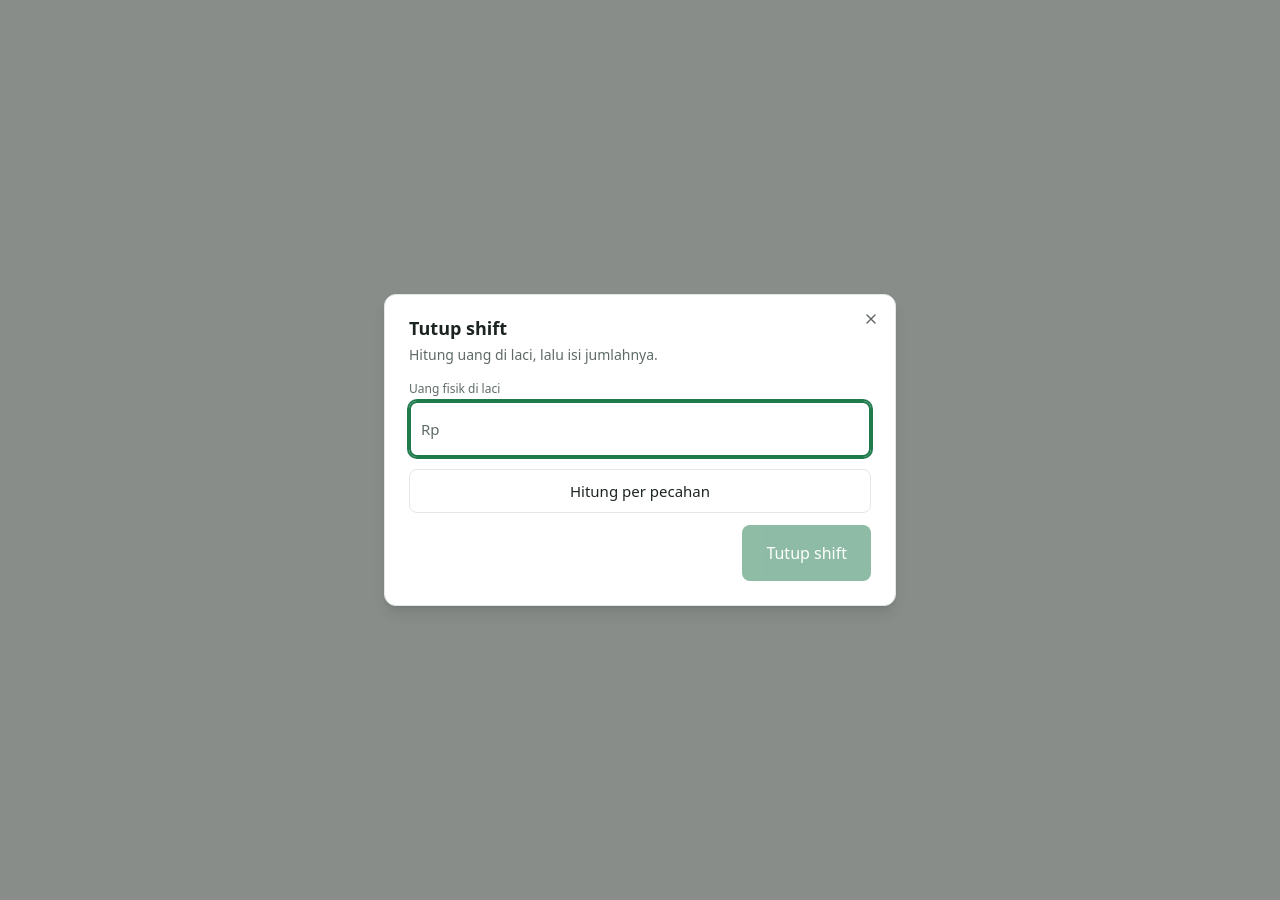
Scenario: kalkulator pecahan mengisi total uang fisik
Step 1. Click the button "Hitung per pecahan" → coordinates (640, 491), box left=409, top=469, right=871, bottom=513
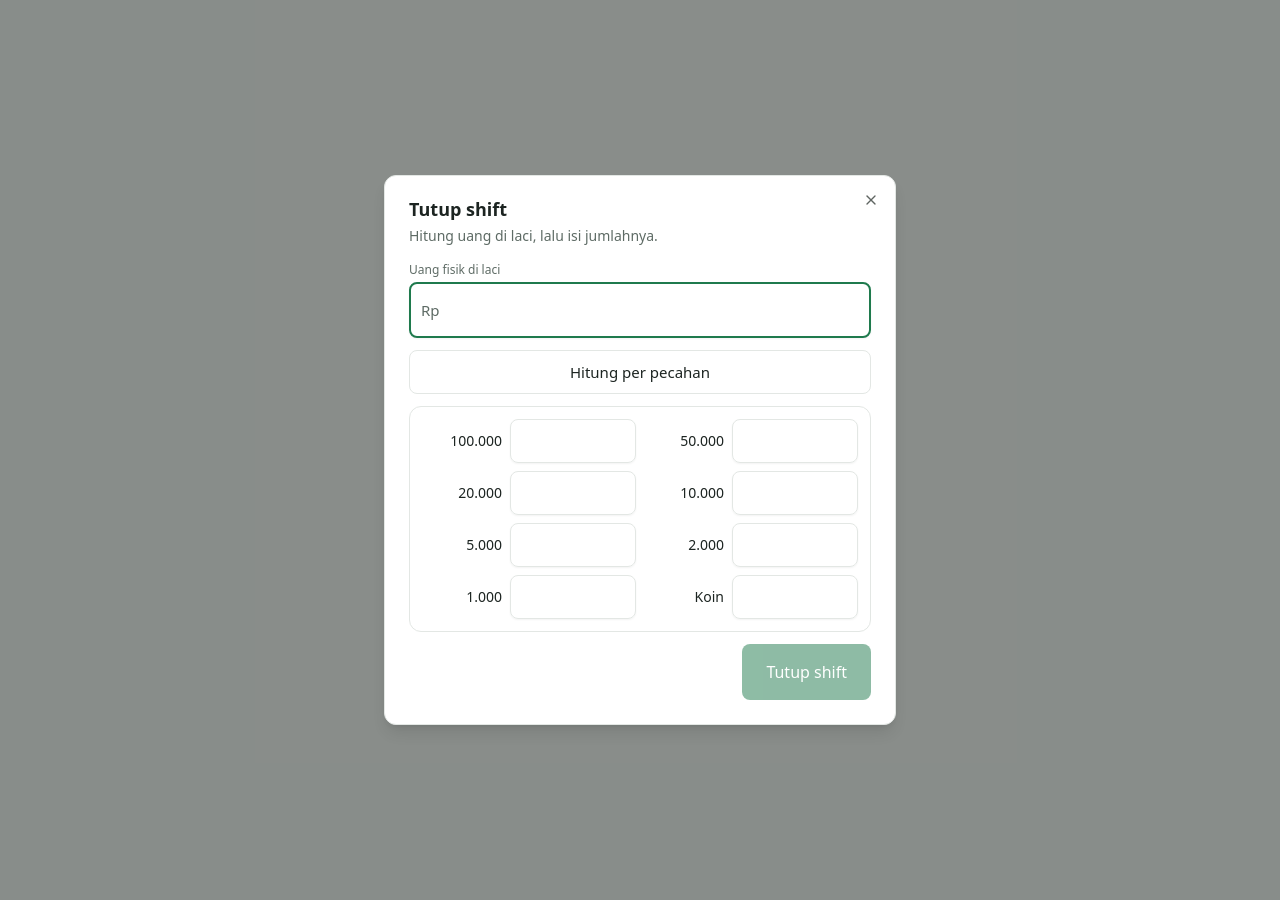
Step 2. Type "3" into the field labelled "100.000" → coordinates (573, 441), box left=510, top=419, right=636, bottom=463
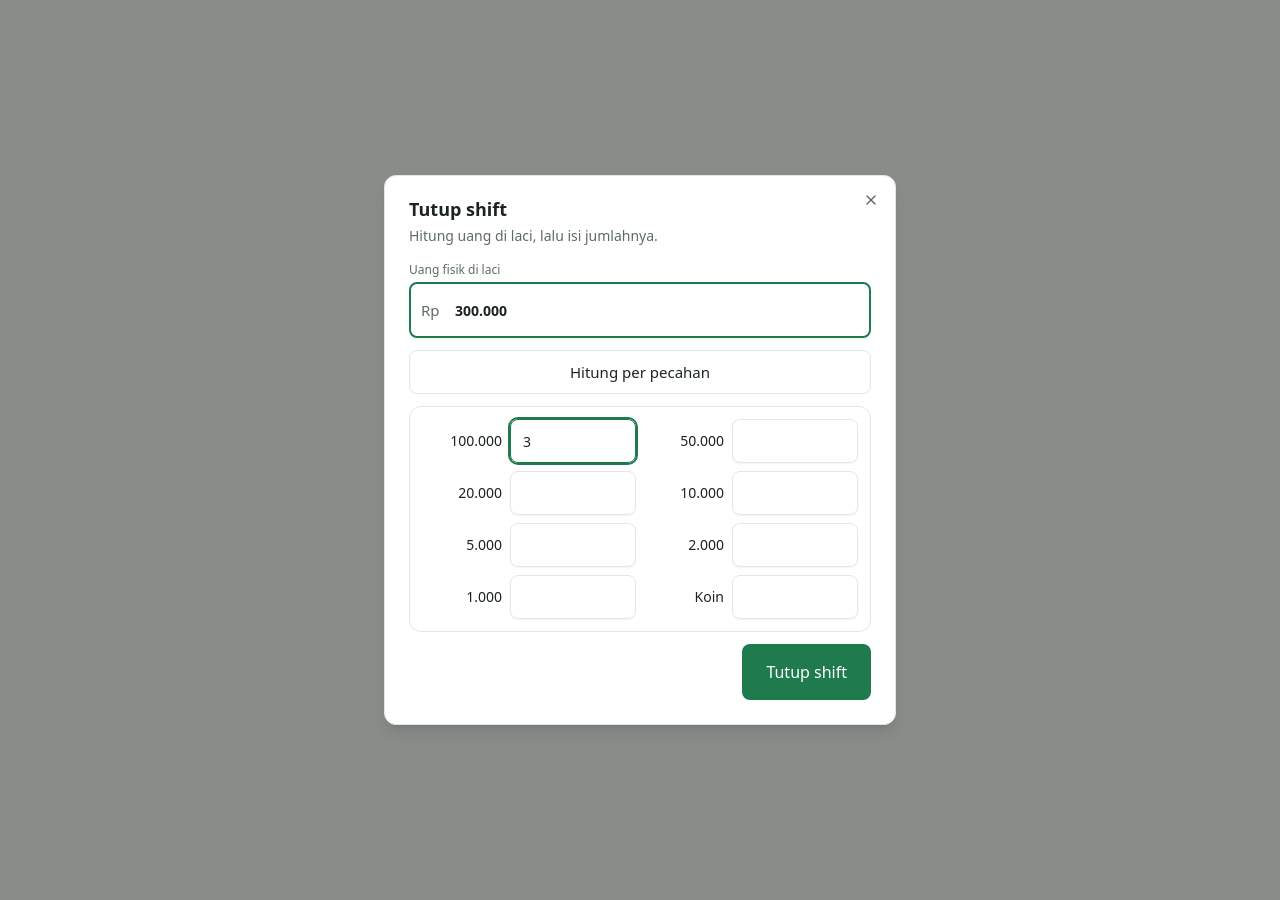
Step 3. Type "2" into the field labelled "20.000" → coordinates (573, 493), box left=510, top=471, right=636, bottom=515
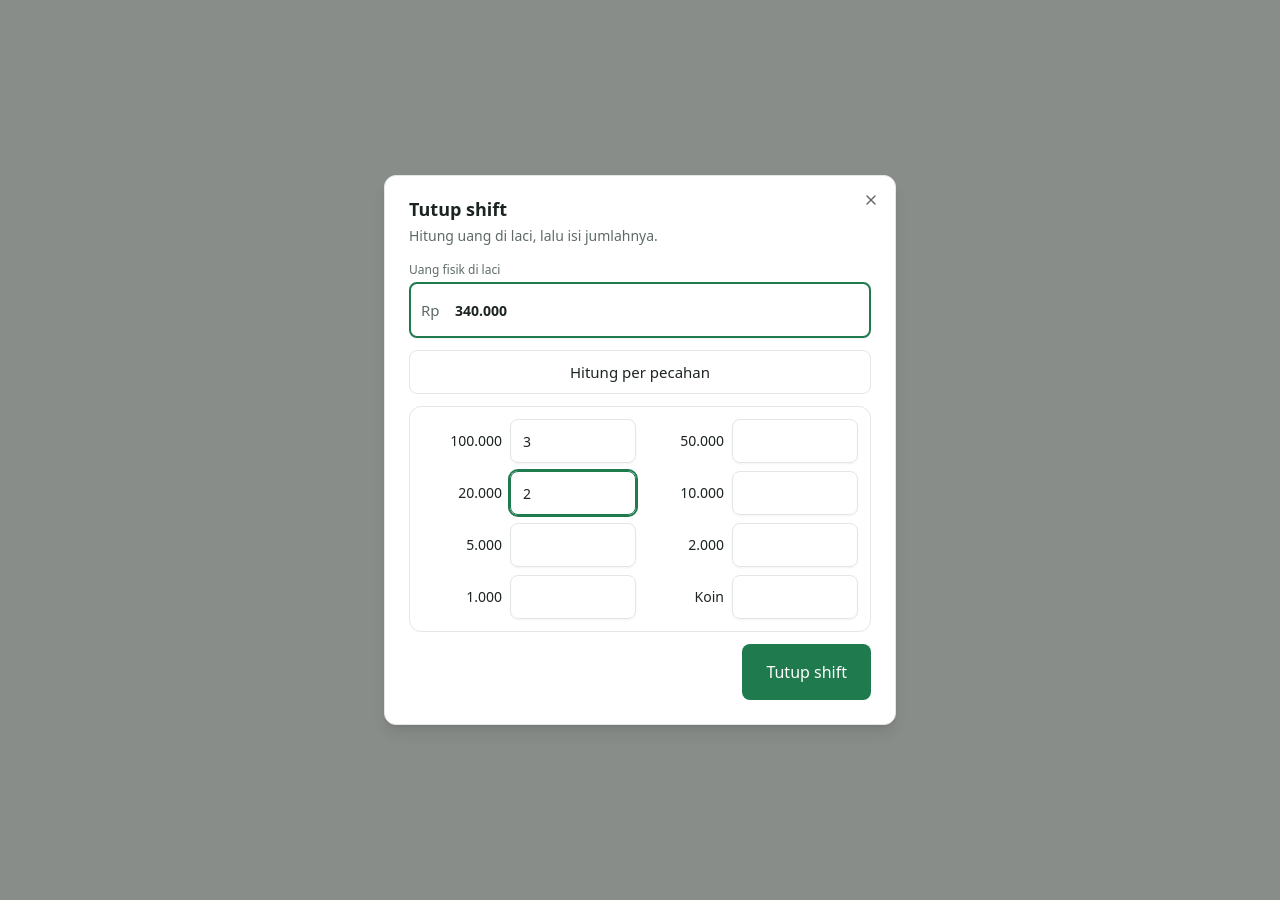
Step 4. Type "5" into the field labelled "1.000" → coordinates (573, 597), box left=510, top=575, right=636, bottom=619
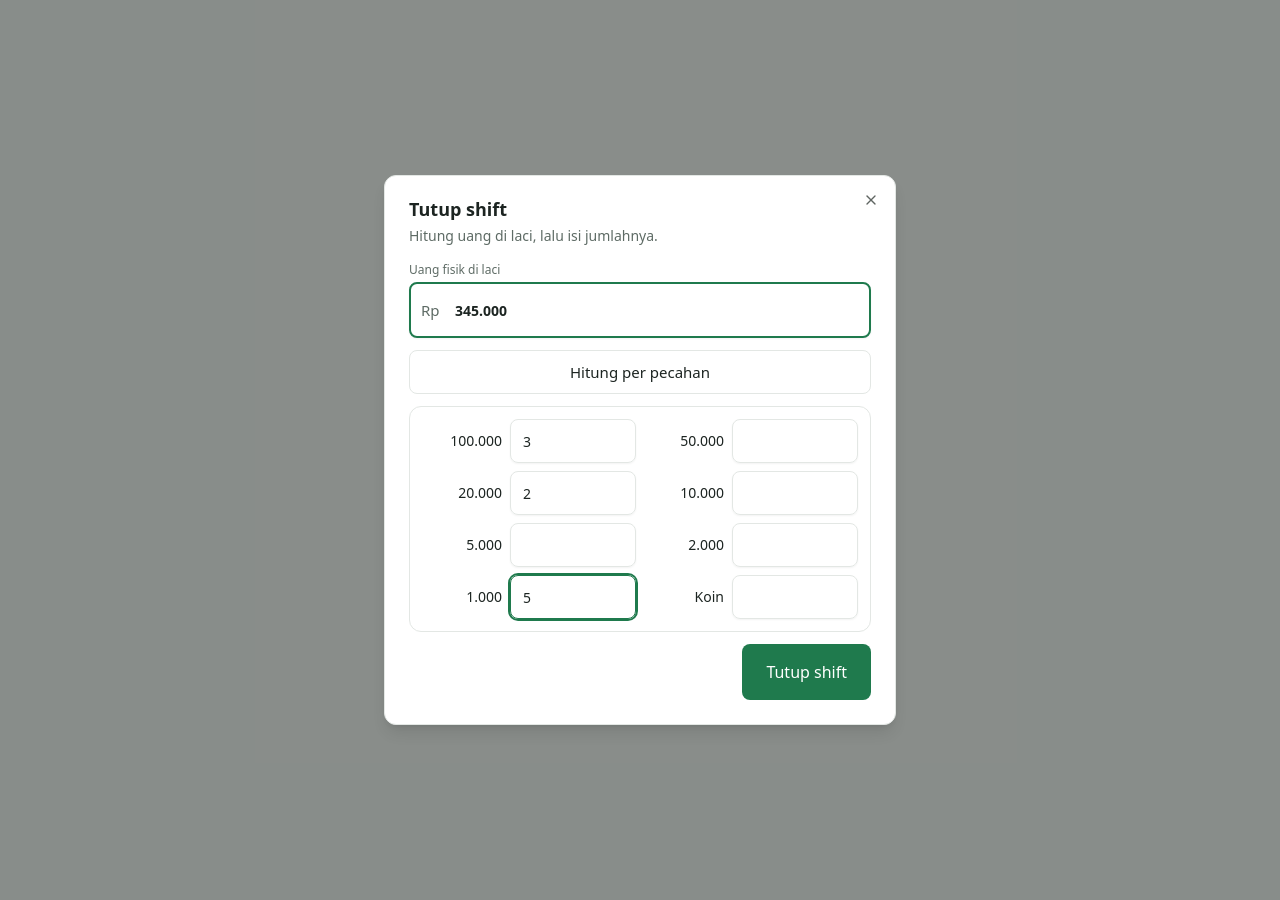
Step 5. Type "1.500" into the field labelled "Koin" → coordinates (795, 597), box left=732, top=575, right=858, bottom=619
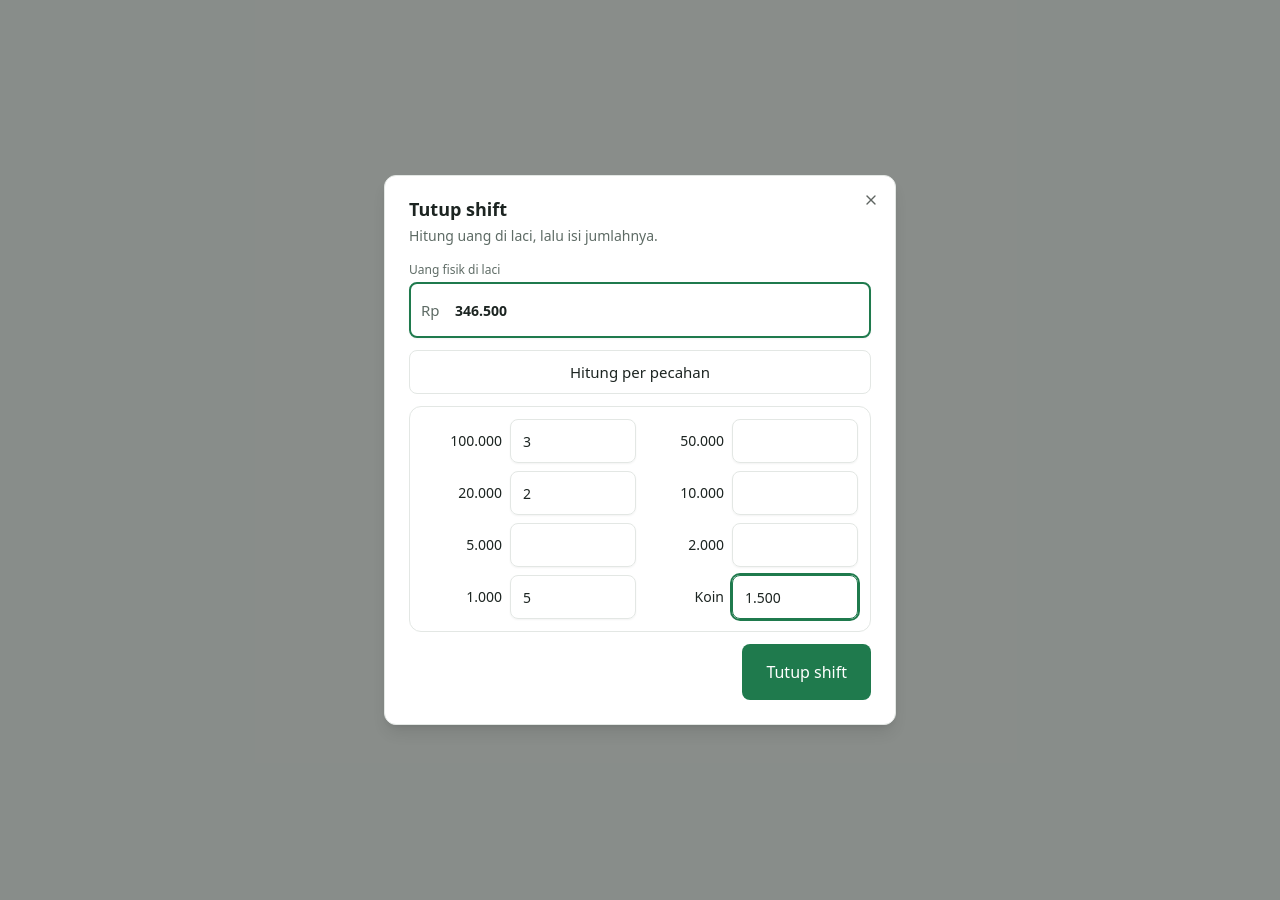
Now the field labelled "Uang fisik di laci" holds "346.500", box left=409, top=282, right=871, bottom=338
